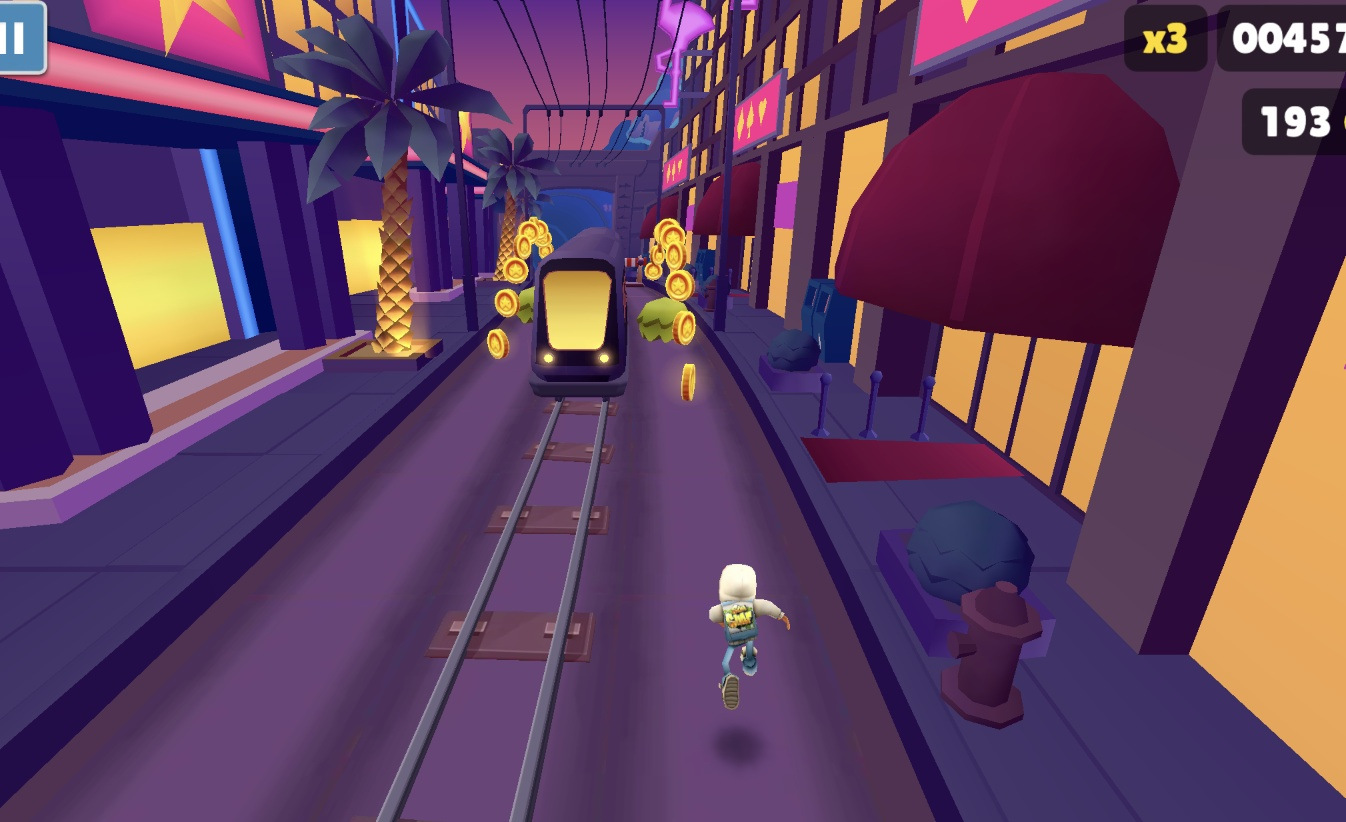bush: (637, 299, 687, 343)
ground_barrier: (625, 256, 645, 282)
train: (525, 224, 630, 399)
